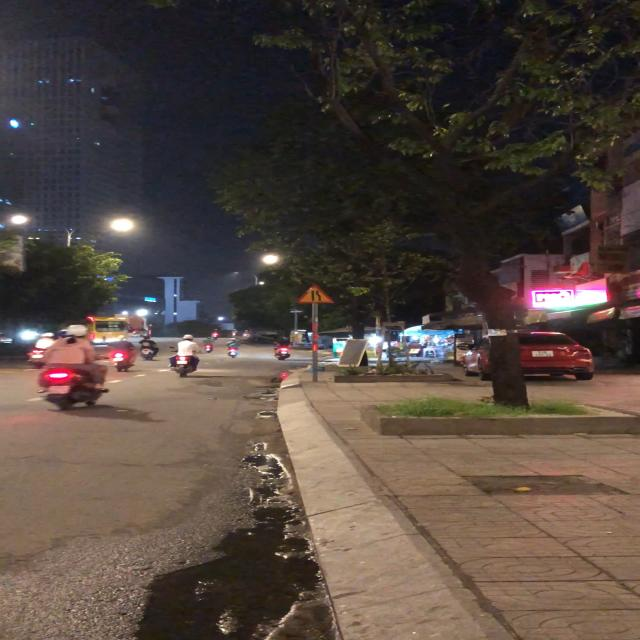Bien bao duong bi thu hep: (293, 283, 335, 305)
